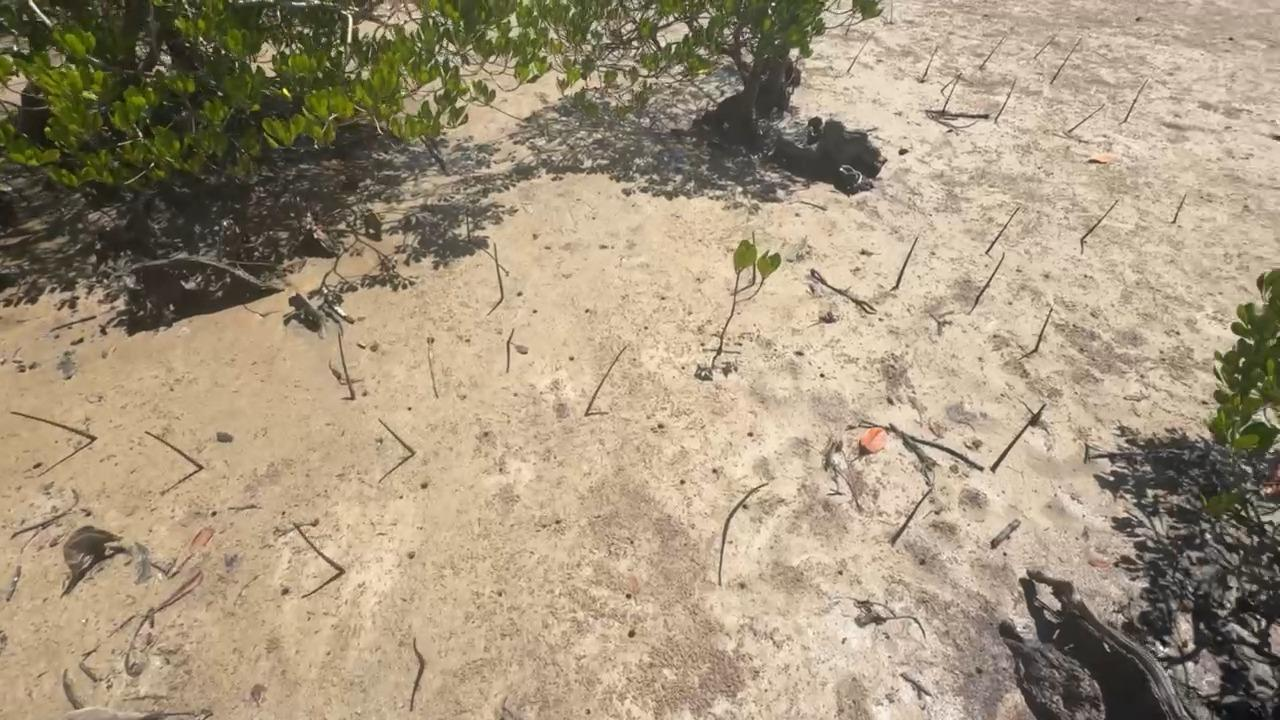Tree: (583, 344, 627, 416), (7, 409, 97, 441), (291, 521, 345, 574), (144, 429, 204, 471), (726, 482, 770, 525), (985, 207, 1021, 254), (1080, 199, 1119, 241), (376, 415, 416, 455), (894, 237, 921, 289), (1049, 39, 1079, 85), (337, 330, 356, 400), (901, 487, 934, 527), (1067, 102, 1106, 135), (1123, 79, 1148, 123), (980, 252, 1007, 292), (1033, 308, 1054, 353), (995, 80, 1015, 123), (921, 44, 943, 82), (847, 35, 869, 73), (979, 37, 1003, 71), (492, 239, 505, 300), (941, 78, 961, 113), (1033, 35, 1053, 60), (1172, 193, 1187, 225), (1030, 402, 1048, 424), (412, 637, 426, 664), (941, 78, 955, 93), (505, 328, 515, 345)
